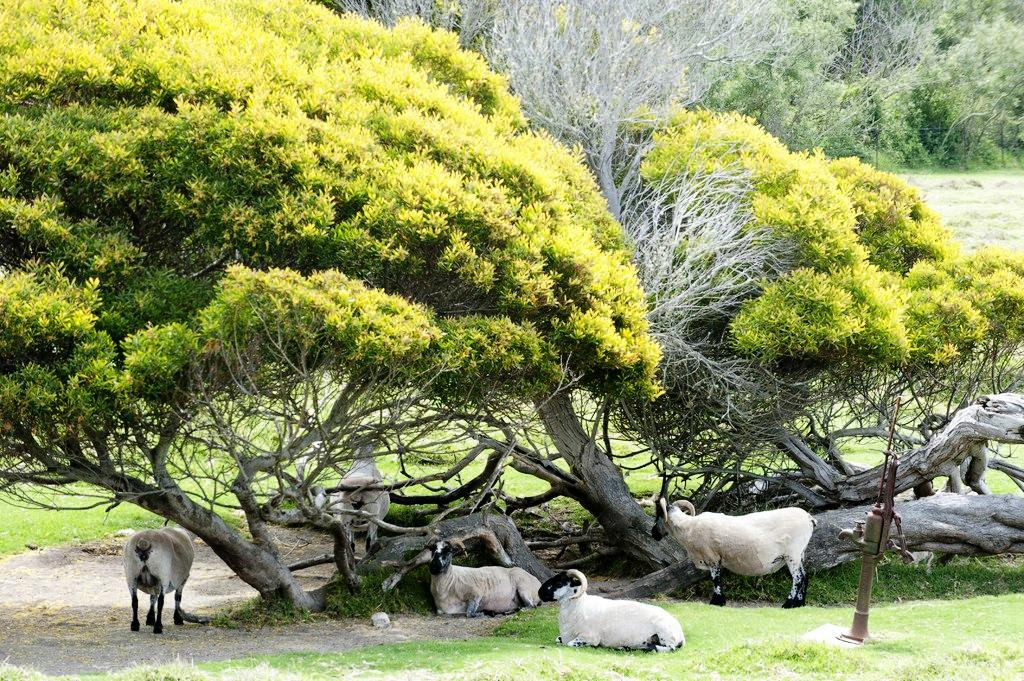Sheep: (649, 498, 815, 604), (538, 570, 682, 646), (428, 534, 542, 616), (122, 527, 196, 633), (340, 446, 390, 548)
